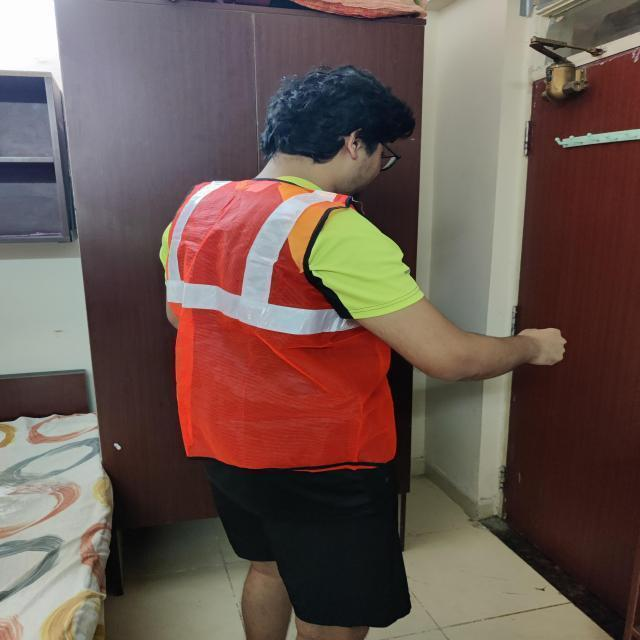no-helmet: (263, 64, 422, 158)
vest: (162, 176, 408, 475)
